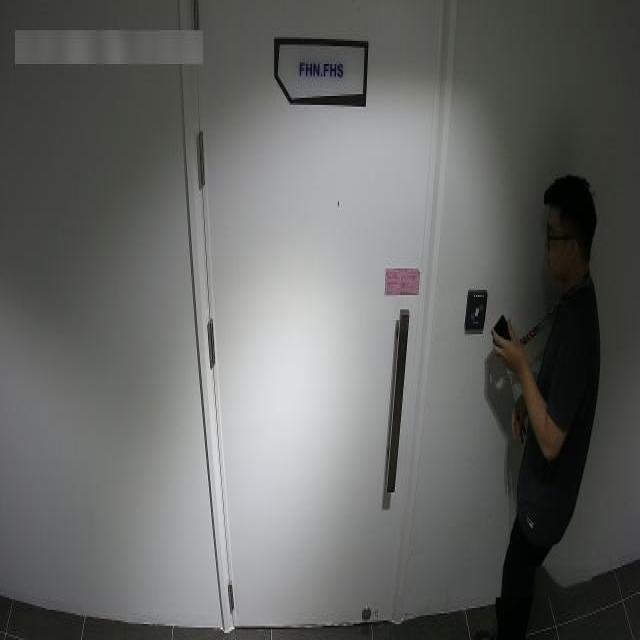bare_hand: (488, 313, 541, 388)
